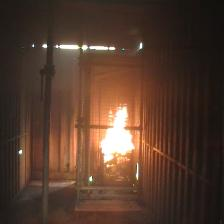fire: (100, 102, 135, 164)
